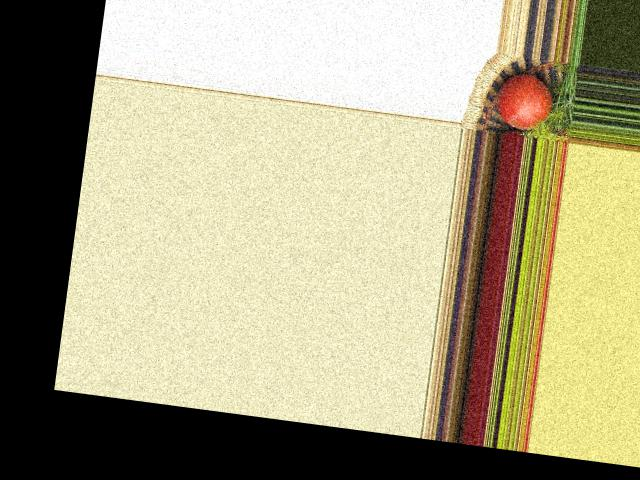tomato: (494, 71, 556, 132)
